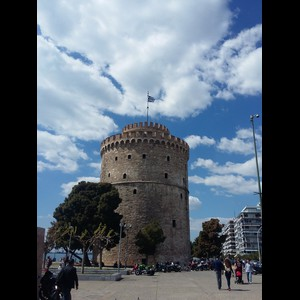White Tower: (99, 91, 196, 272)
